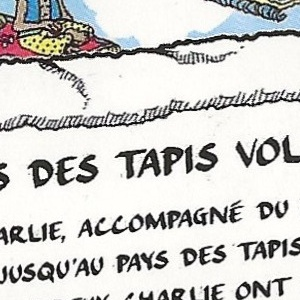Charlie: (118, 66, 182, 234)
